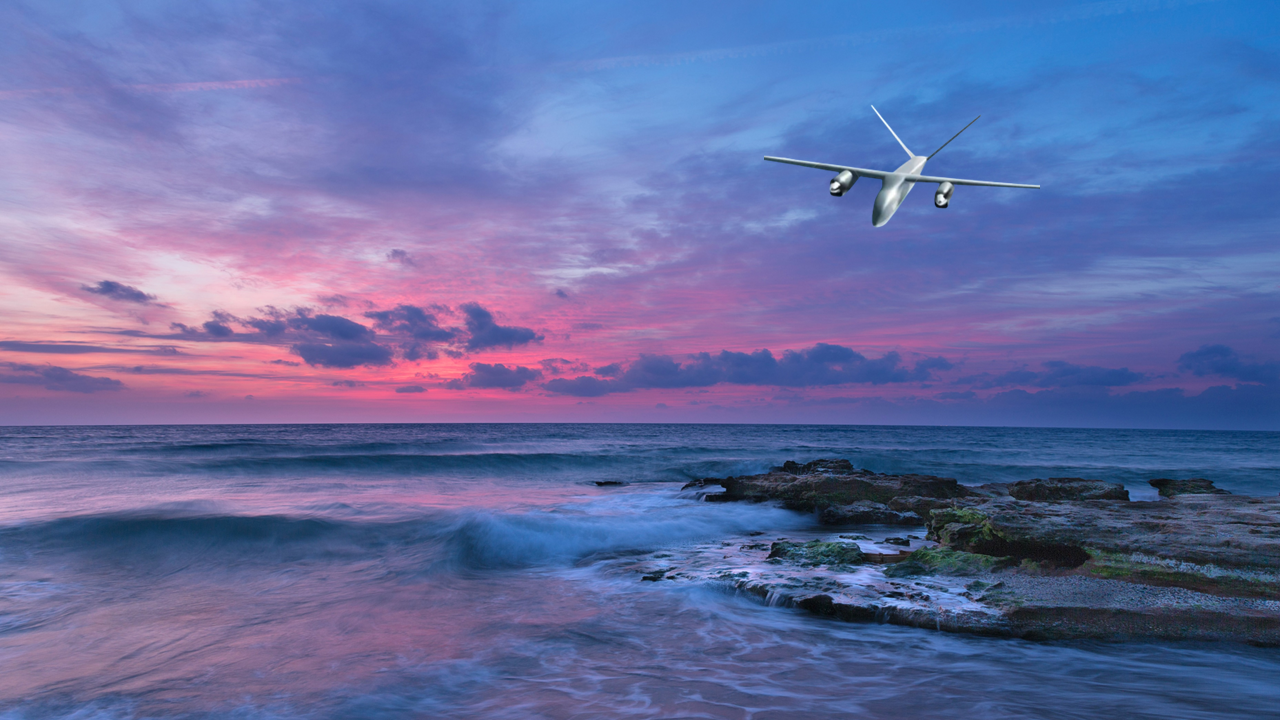military drone: (763, 104, 1040, 227)
